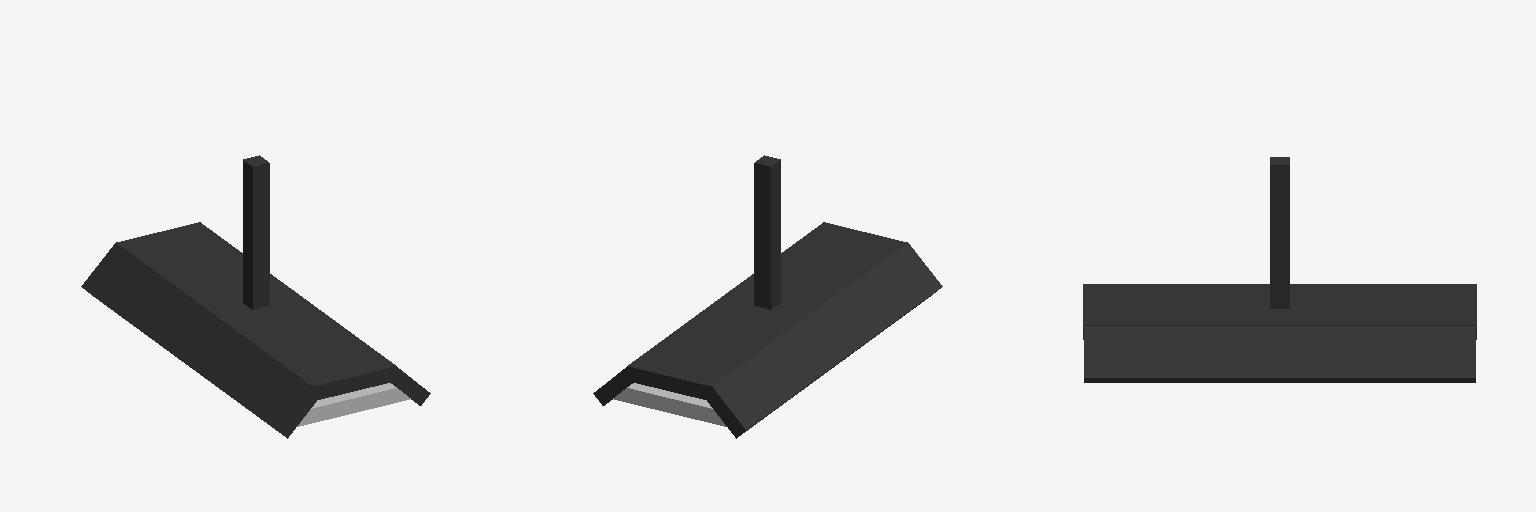
Rendered from light_v2.obj.
The picture shows the model from 3 angles: view 1: azimuth 30°, elevation 25°; view 2: azimuth 150°, elevation 25°; view 3: azimuth 270°, elevation 25°; orthographic projection.
Parts seen in each view (by area): view 1: Cube.004, Cube.003, Cube.005, Cube.001, Cube.002; view 2: Cube.004, Cube.003, Cube.005, Cube.001, Cube.002; view 3: Cube.002, Cube.004, Cube.005.
Boxes of the visible parts, x1,y1,x2,y2 form: Cube.004: [116, 222, 396, 401]; Cube.003: [81, 243, 316, 438]; Cube.005: [243, 155, 269, 309]; Cube.001: [297, 383, 410, 426]; Cube.002: [201, 223, 430, 405]; Cube.004: [627, 222, 907, 401]; Cube.003: [707, 243, 942, 438]; Cube.005: [754, 155, 780, 309]; Cube.001: [613, 383, 726, 426]; Cube.002: [593, 223, 822, 405]; Cube.002: [1084, 326, 1475, 382]; Cube.004: [1083, 284, 1476, 339]; Cube.005: [1270, 157, 1289, 308].
Size of the model in its own units: 0.4493 by 0.5319 by 1.